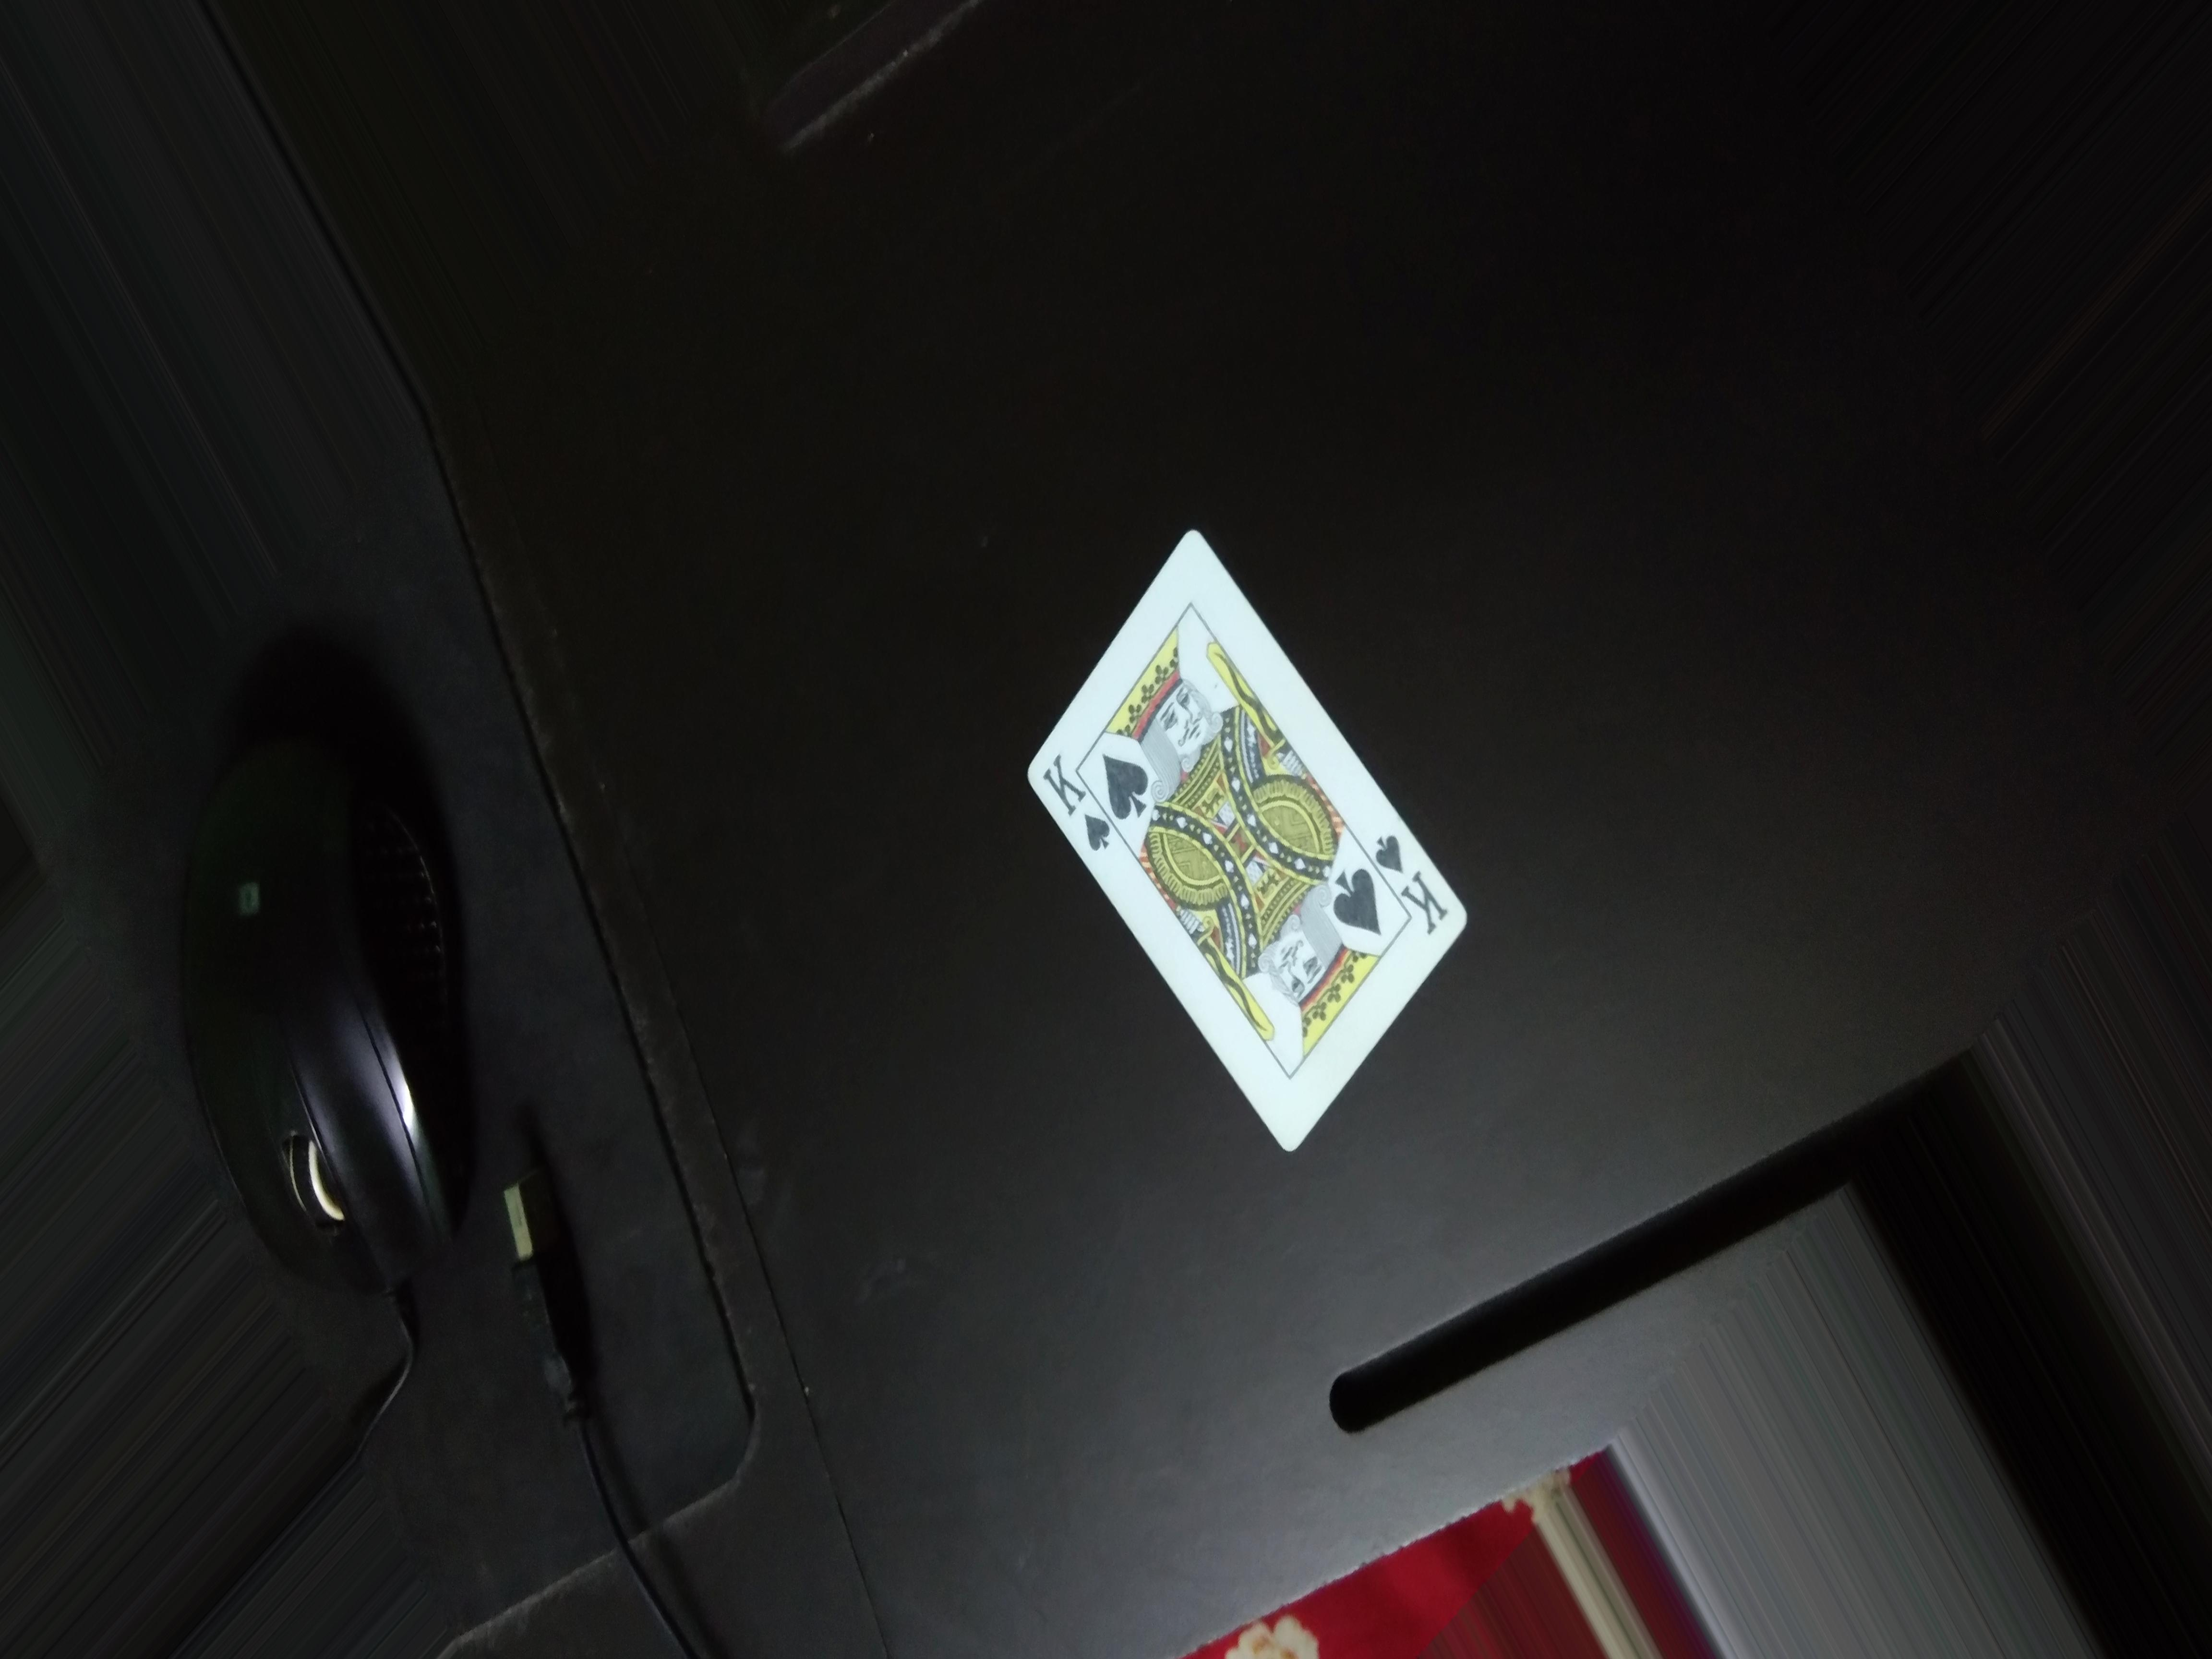KS: (1012, 737, 1113, 856)
